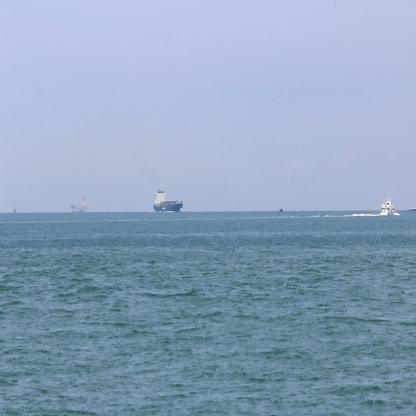Container Ship: (152, 181, 185, 215), (70, 192, 90, 214), (408, 204, 416, 213)
